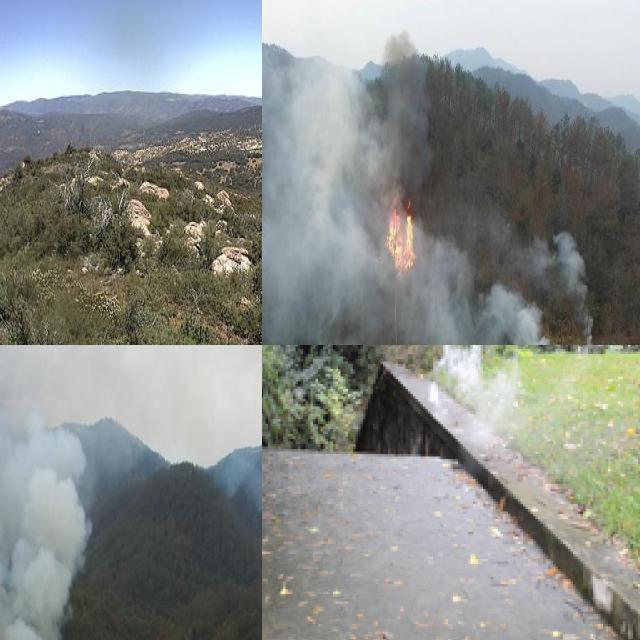fire: (359, 152, 442, 298)
smoke: (262, 41, 595, 345), (0, 345, 94, 640), (425, 345, 528, 449), (216, 345, 262, 555)
